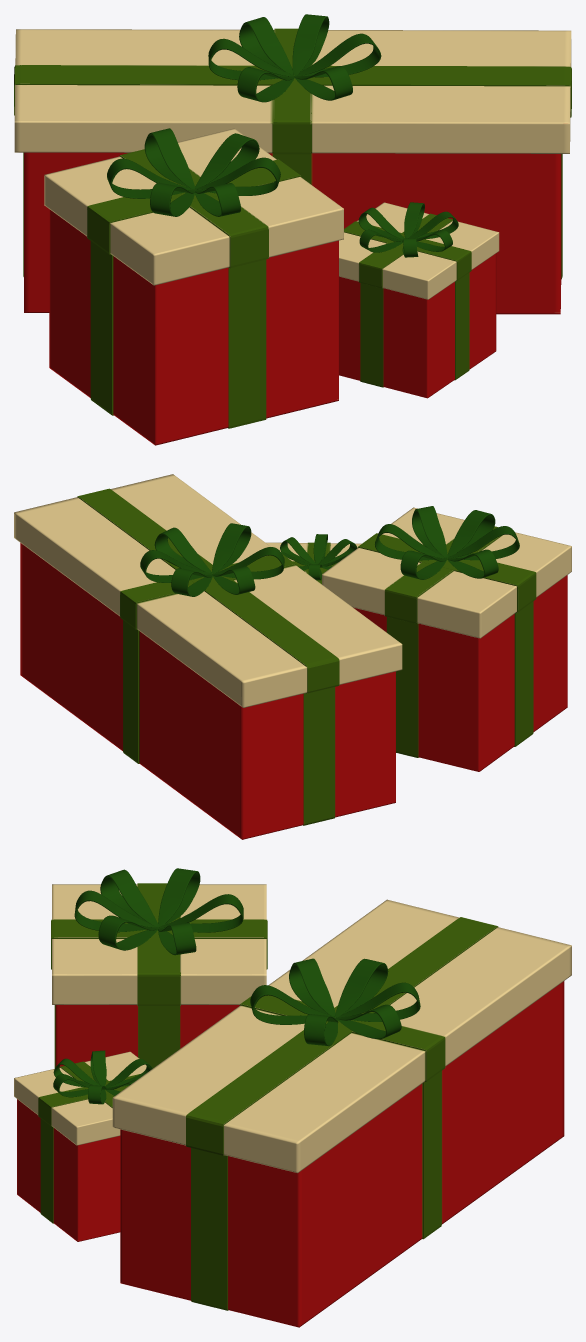
Rendered from ChristmasPresents2.gltf.
The picture shows the model from 3 angles, top to bottom: view 1: azimuth 30°, elevation 25°; view 2: azimuth 150°, elevation 25°; view 3: azimuth 270°, elevation 25°; orthographic projection. The views are drawn at different scales.
Parts seen in each view (by area): view 1: Bow.003, Bow.002, Bow.001; view 2: Bow.003, Bow.002, Bow.001; view 3: Bow.003, Bow.002, Bow.001.
Part boxes in pixels (left/top/right/bottom): Bow.003: left=14, top=14, right=571, bottom=314; Bow.002: left=44, top=128, right=343, bottom=445; Bow.001: left=339, top=202, right=499, bottom=398; Bow.003: left=14, top=474, right=402, bottom=839; Bow.002: left=322, top=506, right=571, bottom=771; Bow.001: left=266, top=534, right=361, bottom=584; Bow.003: left=112, top=899, right=571, bottom=1327; Bow.002: left=51, top=868, right=267, bottom=1068; Bow.001: left=14, top=1050, right=152, bottom=1241.
Size of the model in its own units: 592 by 238 by 538.
Materials: 3 (3 with a texture image).
